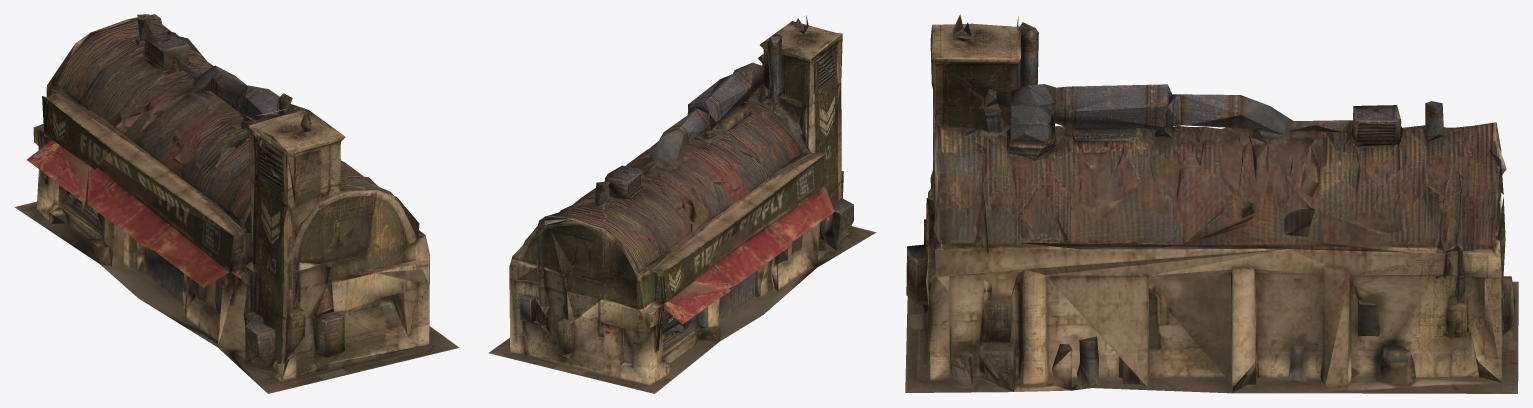
The model's file is field.fbx.
3 renders of one model, left to right at view 1: azimuth 30°, elevation 25°; view 2: azimuth 150°, elevation 25°; view 3: azimuth 270°, elevation 25°, orthographic. The views are drawn at different scales.
Visible parts, largest first — view 1: Mesh_0; view 2: Mesh_0; view 3: Mesh_0.
Part boxes in pixels (x1,y1,x2,y2): Mesh_0: [14, 14, 459, 393]; Mesh_0: [488, 15, 876, 393]; Mesh_0: [905, 14, 1518, 393].
Size of the model in its own units: 86.87 by 103 by 190.
Materials: 1 (1 with a texture image).
